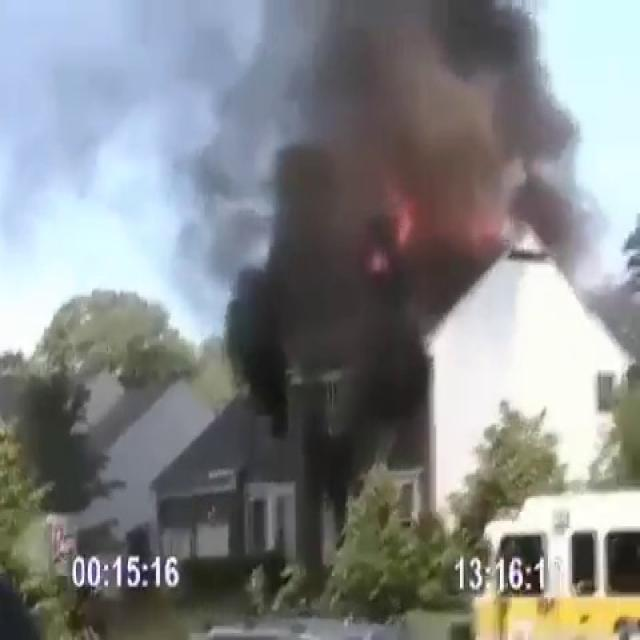Smoke: (188, 4, 610, 422)
